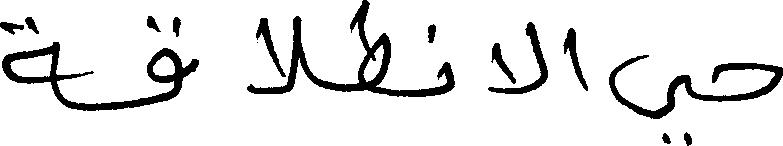X: (610, 50, 686, 145), (0, 12, 60, 106), (246, 11, 300, 98), (491, 17, 548, 98), (148, 11, 182, 109), (714, 58, 782, 106), (358, 0, 390, 100), (565, 23, 587, 95), (444, 57, 454, 98)
